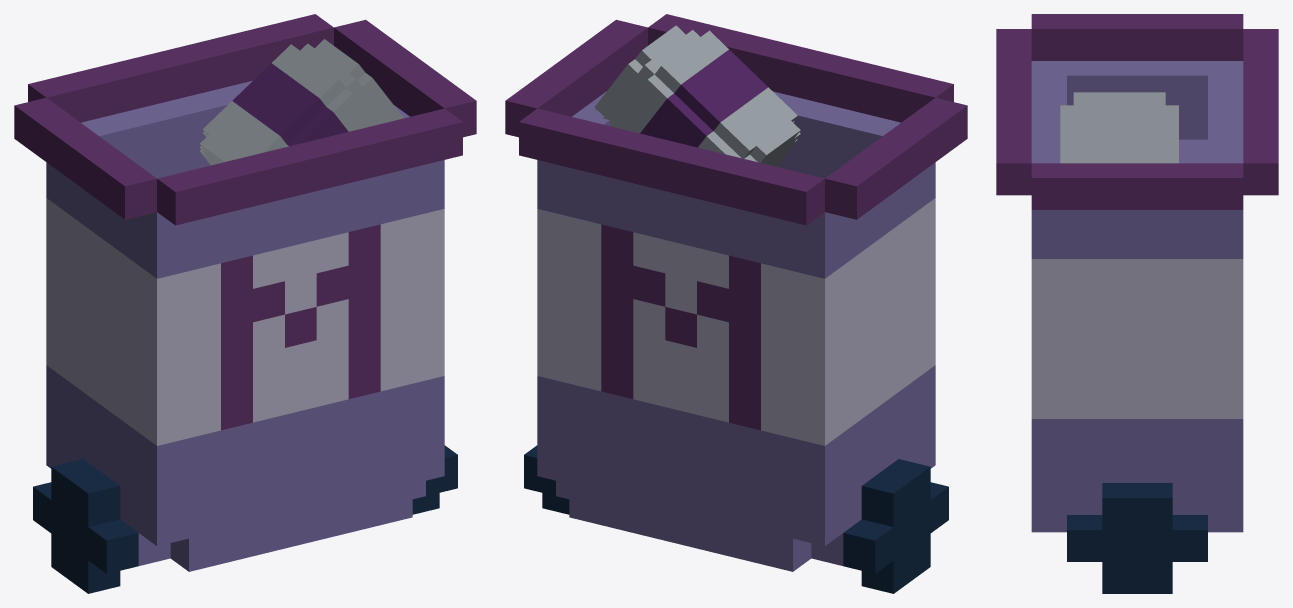
The model's file is conmethalf.gltf.
3 renders of one model, left to right at view 1: azimuth 30°, elevation 25°; view 2: azimuth 150°, elevation 25°; view 3: azimuth 270°, elevation 25°, orthographic. The views are drawn at different scales.
Parts seen in each view (by area): view 1: Object_0, Object_0.002; view 2: Object_0, Object_0.002; view 3: Object_0, Object_0.002.
Boxes of the visible parts, left/top/right/bottom form: Object_0: left=14, top=14, right=476, bottom=593; Object_0.002: left=200, top=39, right=403, bottom=165; Object_0: left=505, top=14, right=967, bottom=593; Object_0.002: left=594, top=25, right=800, bottom=166; Object_0: left=996, top=14, right=1278, bottom=593; Object_0.002: left=1060, top=92, right=1178, bottom=163.
Bounding box in the file's own units: 1.86 × 2.39 × 1.36.
2 materials, 2 textured.
